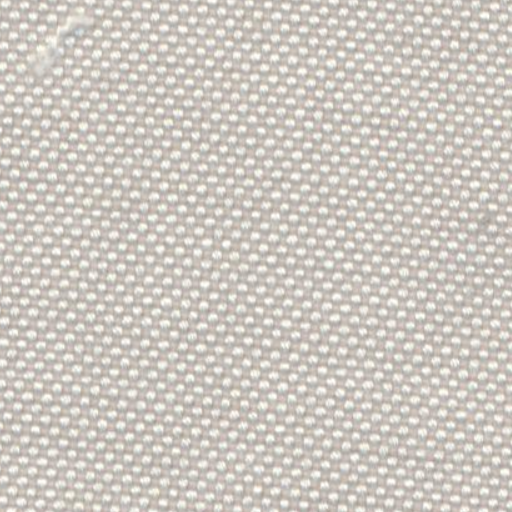DuanSha: (20, 12, 110, 78)
